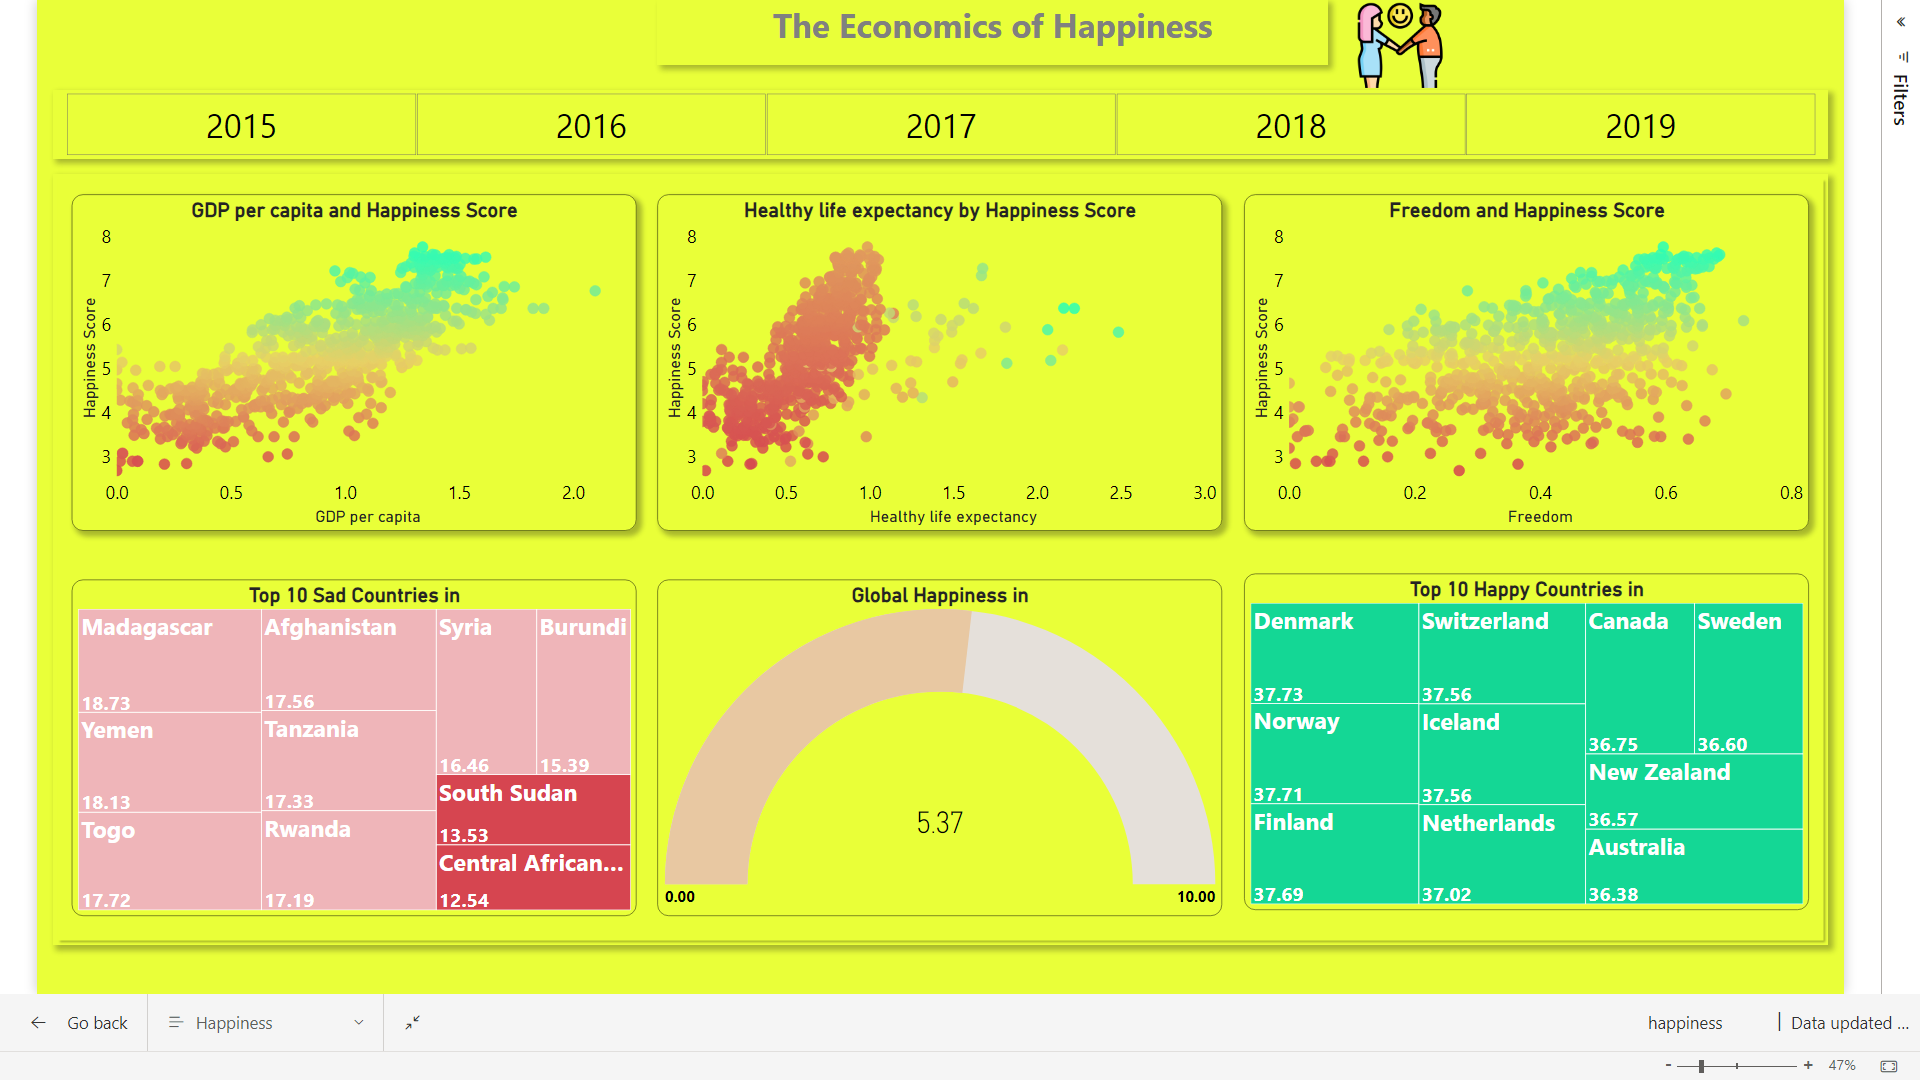

What the dashboard file says about the page in this screenshot:
{"tool":"powerbi","page":{"name":"Happiness","canvas":[3220,1770],"ordinal":0},"visuals":[{"type":"slicer","fields":{"Values":["data.Year"]},"box":[26.9,161.3,3163.7,122.9],"z":0},{"type":"shape","box":[26.9,311,3163.7,1374.5],"z":500},{"type":"gauge","fields":{"Y":["Avg(data.Happiness Score)"]},"box":[1105.8,1032.8,1005.9,599],"z":1000},{"type":"treemap","fields":{"Group":["data.Country"],"Values":["Sum(data.Happiness Score)"]},"box":[2150.1,1021.3,1005.9,599],"z":2000},{"type":"treemap","fields":{"Group":["data.Country"],"Values":["Sum(data.Happiness Score)"]},"box":[61.4,1032.8,1005.9,599],"z":3000},{"type":"scatterChart","fields":{"X":["data.GDP per capita"],"Y":["data.Happiness Score"]},"box":[61.4,345.6,1005.9,599],"z":4000},{"type":"scatterChart","fields":{"Y":["data.Happiness Score"],"X":["data.Freedom"]},"box":[2150.1,345.6,1005.9,599],"z":5000},{"type":"scatterChart","fields":{"Y":["data.Happiness Score"],"X":["Sum(data.Healthy life expectancy)"]},"box":[1105.8,345.6,1005.9,599],"z":7000},{"type":"textbox","box":[1105.8,0,1194.1,115.2],"z":7001},{"type":"image","box":[2299.8,0,257.2,161.3],"z":7002}]}

Visuals, with their boxes in screenshot pixels (x1, y1, x2, y2):
slicer - data.Year: l=35, t=81, r=1830, b=151
shape: l=35, t=166, r=1830, b=946
gauge - Avg(data.Happiness Score): l=647, t=576, r=1218, b=916
treemap - data.Country x Sum(data.Happiness Score): l=1239, t=569, r=1810, b=909
treemap - data.Country x Sum(data.Happiness Score): l=55, t=576, r=625, b=916
scatterChart - data.GDP per capita x data.Happiness Score: l=55, t=186, r=625, b=526
scatterChart - data.Happiness Score x data.Freedom: l=1239, t=186, r=1810, b=526
scatterChart - data.Happiness Score x Sum(data.Healthy life expectancy): l=647, t=186, r=1218, b=526
textbox: l=647, t=0, r=1324, b=55
image: l=1324, t=0, r=1470, b=81
